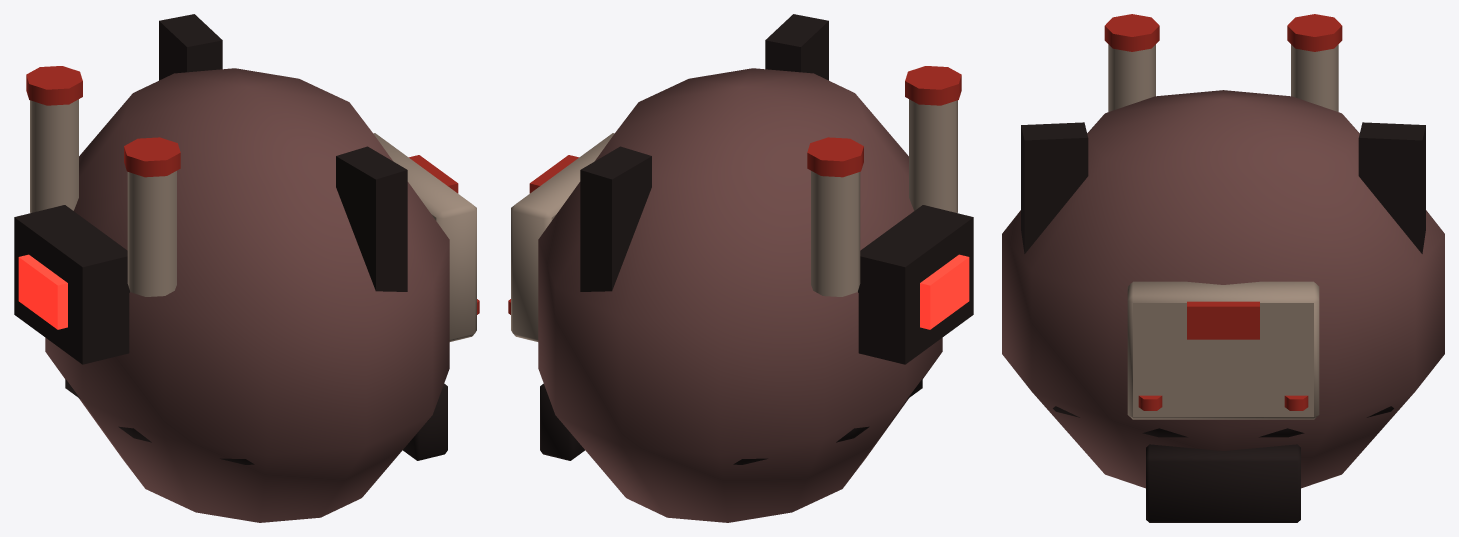
File: berserker_torso.glb
3 renders of one model, left to right at view 1: azimuth 30°, elevation 25°; view 2: azimuth 150°, elevation 25°; view 3: azimuth 270°, elevation 25°, orthographic. The views are drawn at different scales.
Parts seen in each view (by area): view 1: berserker_torso; view 2: berserker_torso; view 3: berserker_torso.
Part boxes in pixels (left/top/right/bottom): berserker_torso: left=14, top=14, right=479, bottom=522; berserker_torso: left=508, top=14, right=973, bottom=522; berserker_torso: left=1002, top=14, right=1444, bottom=522.
Bounding box in the file's own units: 0.473 × 0.48 × 0.485.
